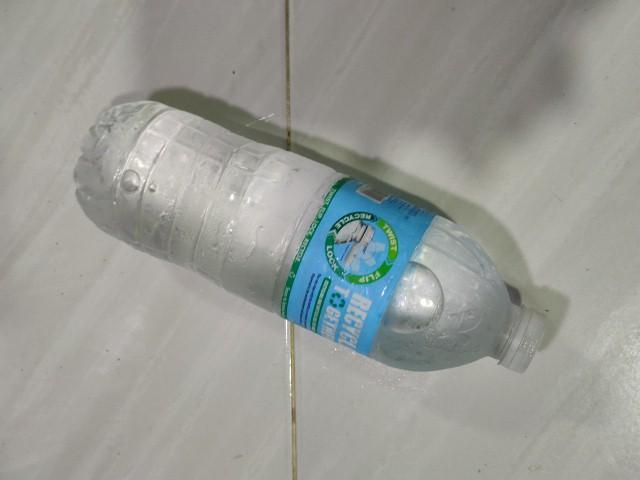Bottled Water: (70, 98, 554, 377)
